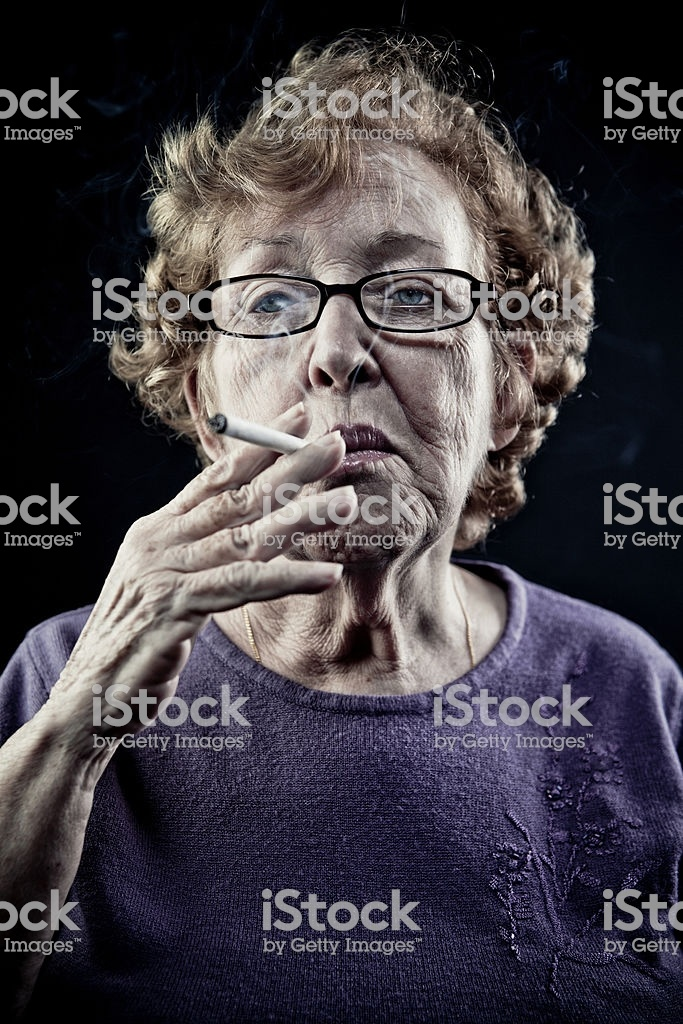sigaretta: (212, 414, 342, 464)
